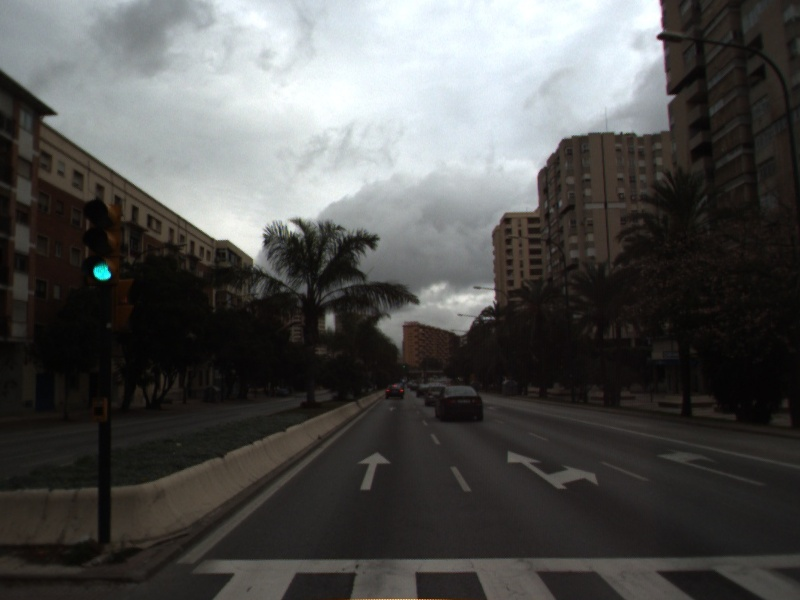RIGHT: (654, 446, 770, 489)
STRAIGHT: (354, 450, 393, 492)
STRAIGHT_RIGHT: (505, 448, 601, 491)
